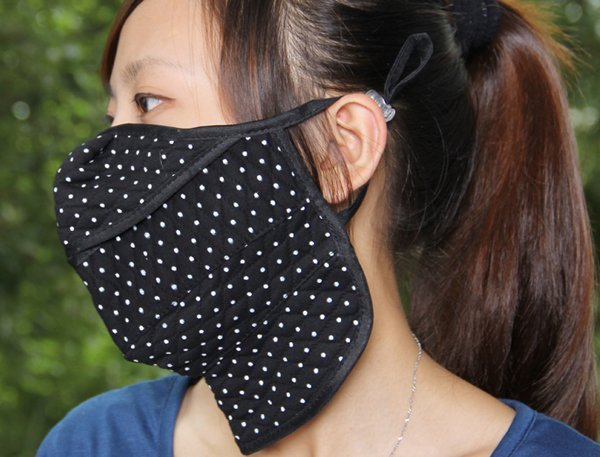face_mask: (97, 1, 296, 272)
